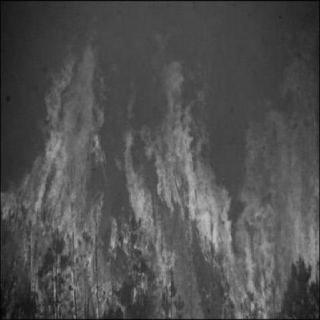Fire: (9, 31, 318, 317)
Smoke: (7, 4, 286, 90)
